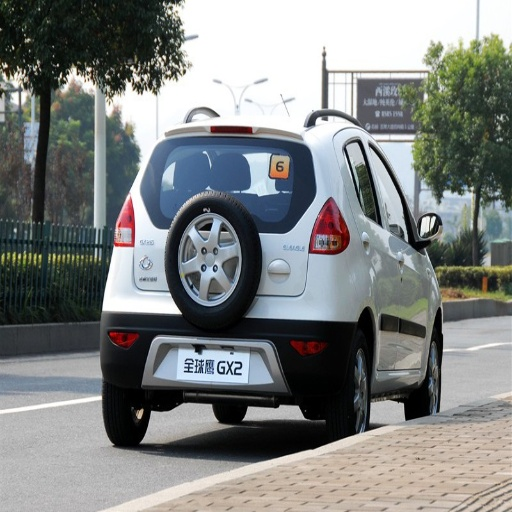back_bumper: (102, 235, 356, 390)
back_right_door: (342, 139, 399, 368)
trunk: (255, 195, 317, 294)
